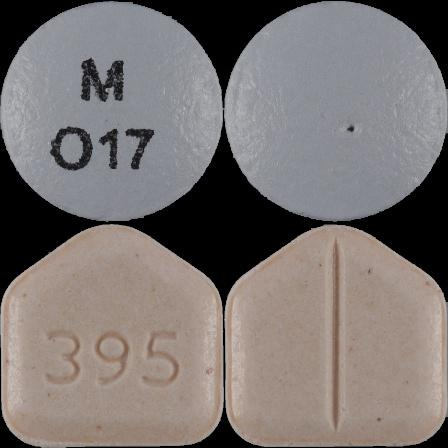54868-5743: (0, 0, 224, 224)
